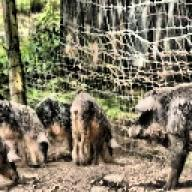boar: (127, 76, 192, 191), (69, 91, 114, 165), (0, 98, 48, 166), (0, 117, 22, 192)
